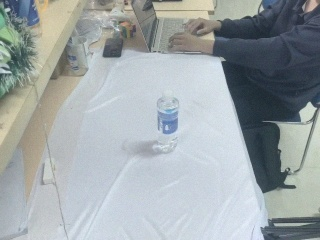bottle: (152, 89, 179, 154)
